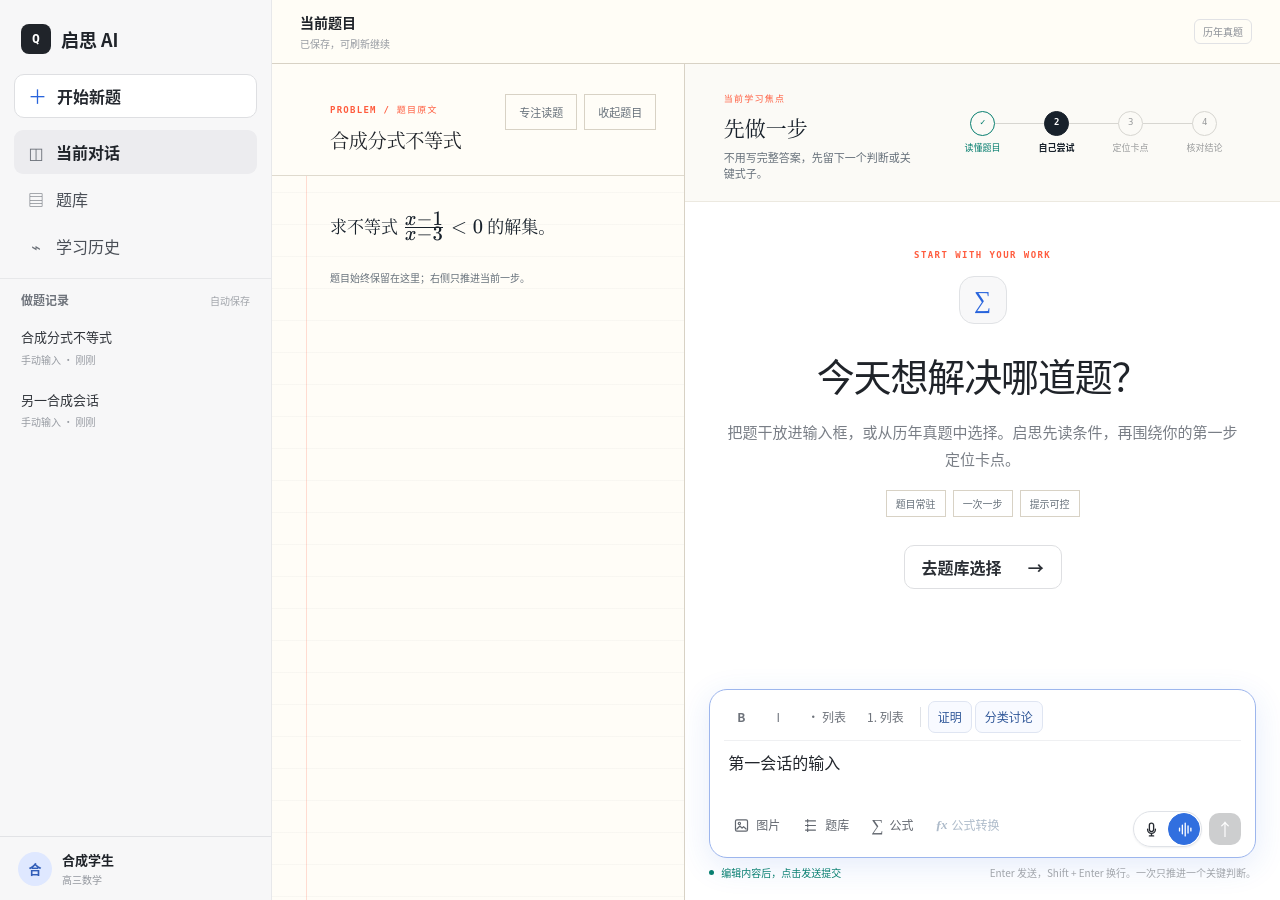
Test: BankPage committed chat versions (real React + SSE parser, fixture server) › does not apply an old session completion version to the session opened meanwhile
Expected: the heading "合成分式不等式" is shown, [330,127,462,153]
Clear the field named "输入题目或想法" at (784,762), box [728,750,840,774]
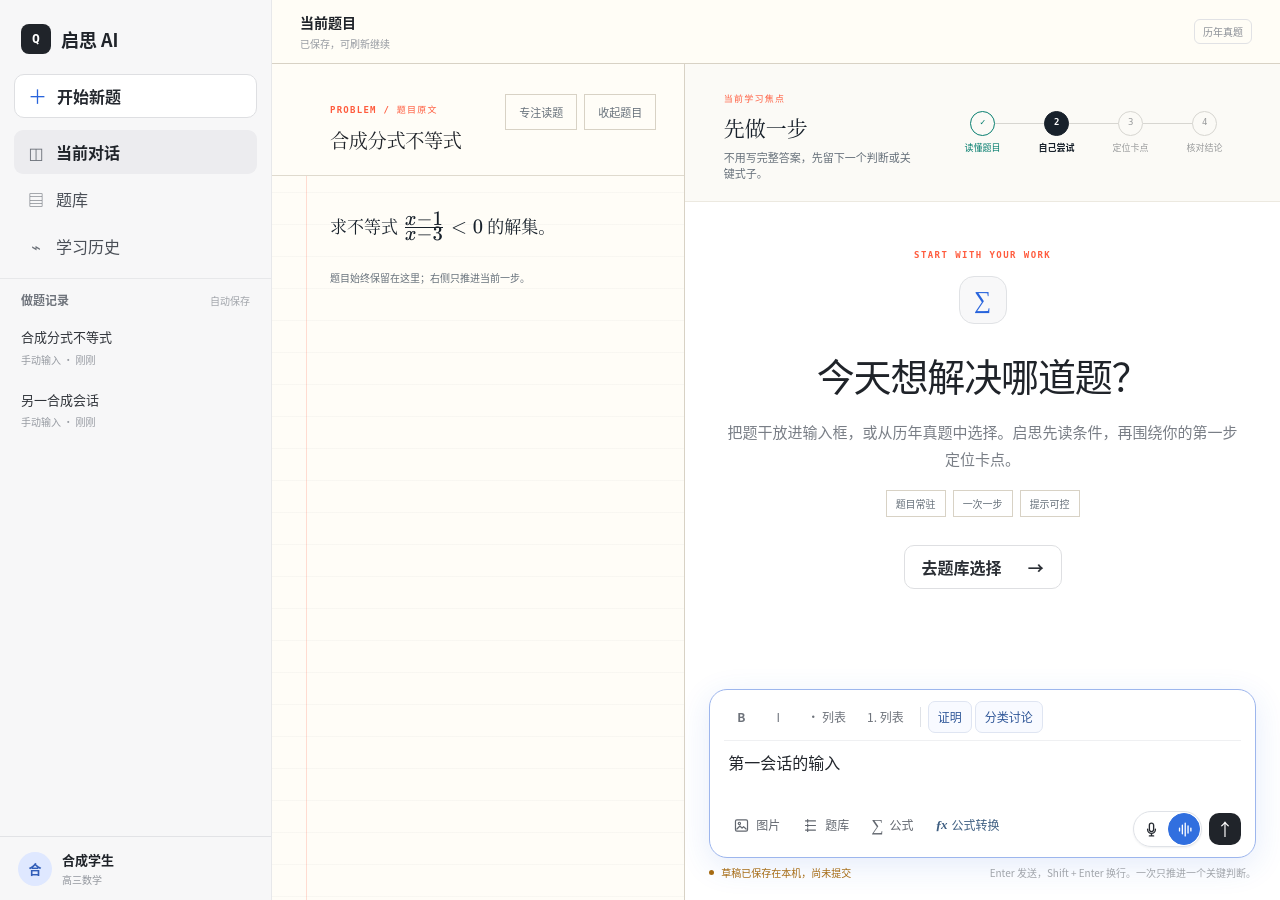
Click the button named "发送" at (1225,829), box [1209,813,1241,845]
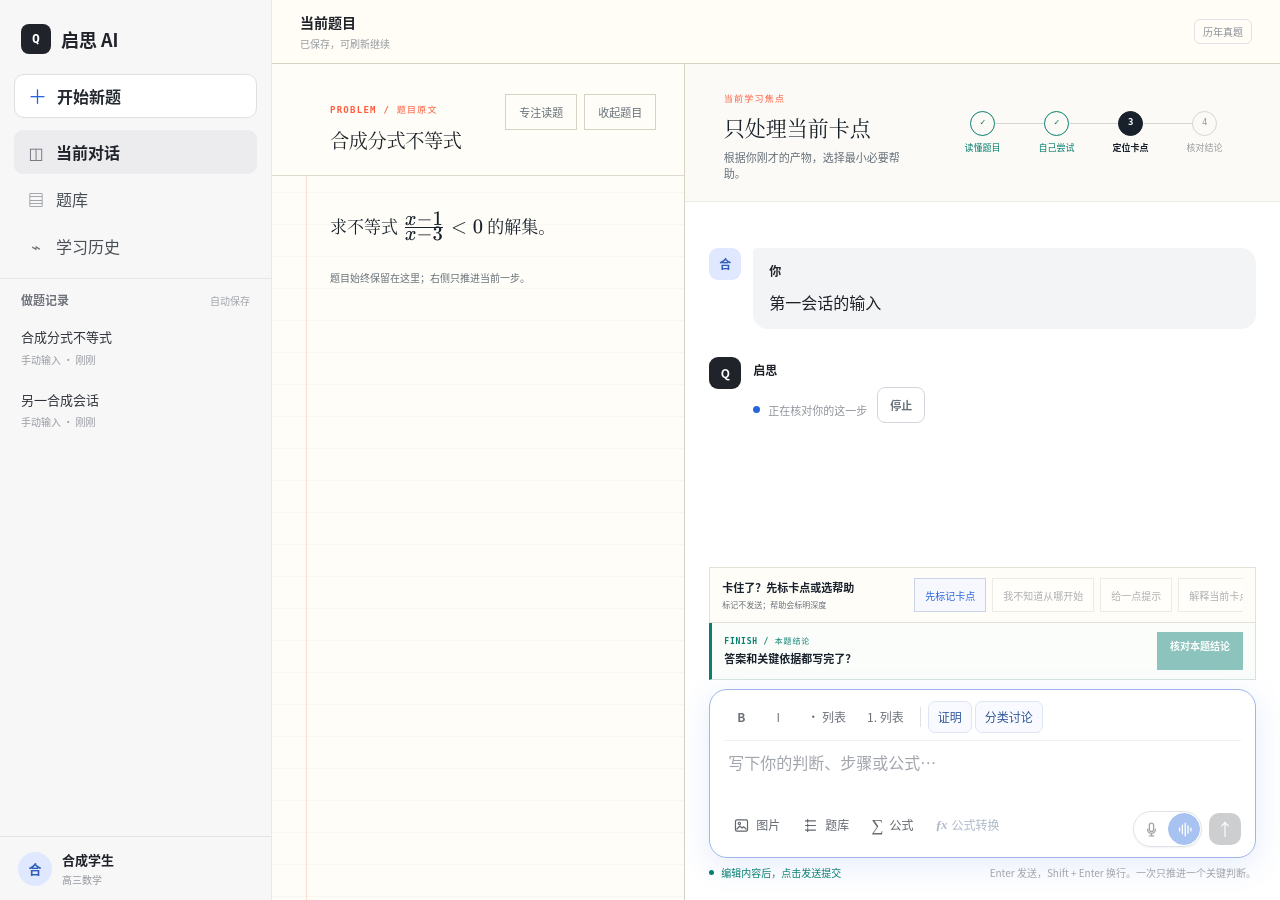
Click the button "另一合成会话 手动输入 · 刚刚" at (136,409), box [12,380,259,439]
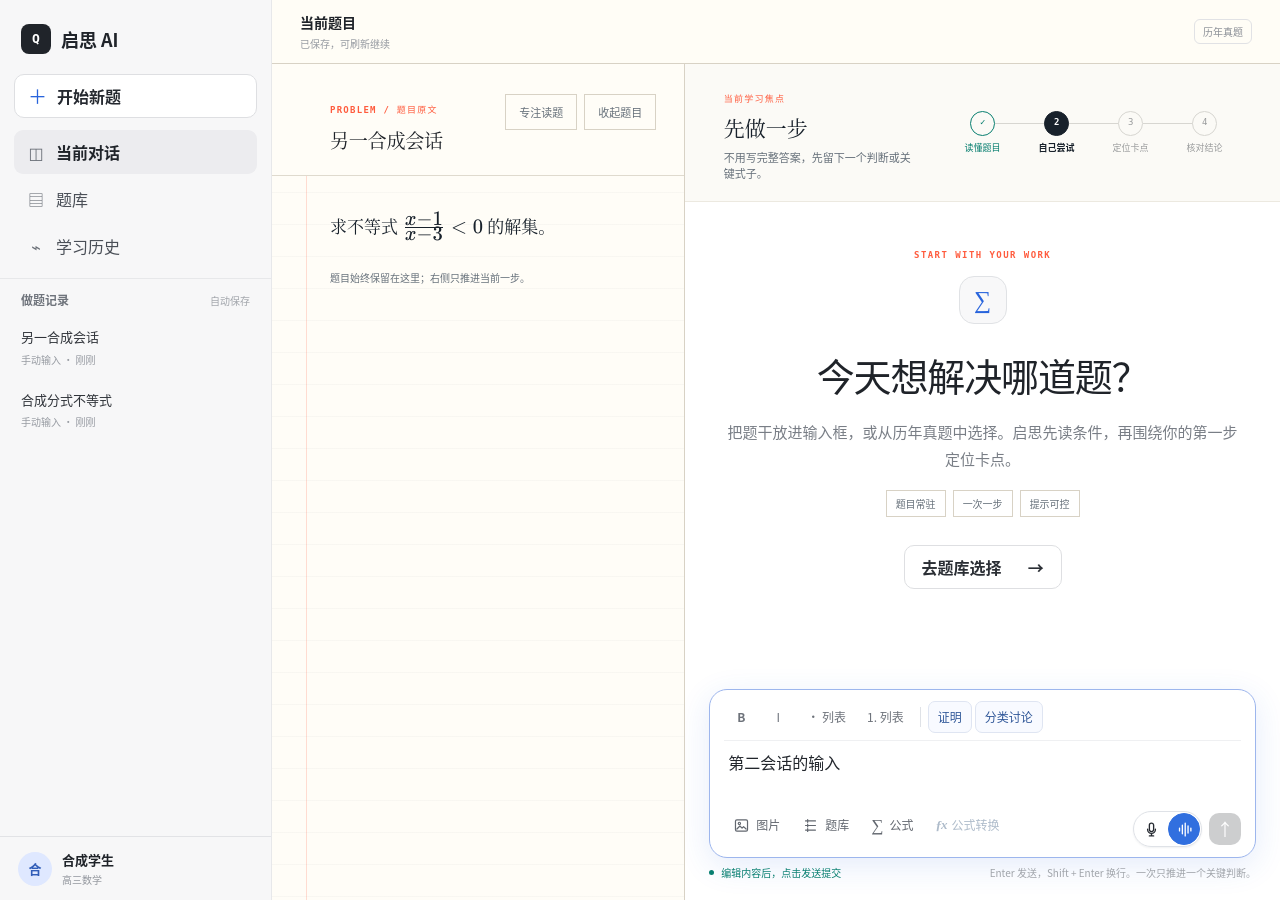
Result: the heading "另一合成会话" is shown at [330,127,443,153]
Clear the field named "输入题目或想法" at (784,762), box [728,750,840,774]
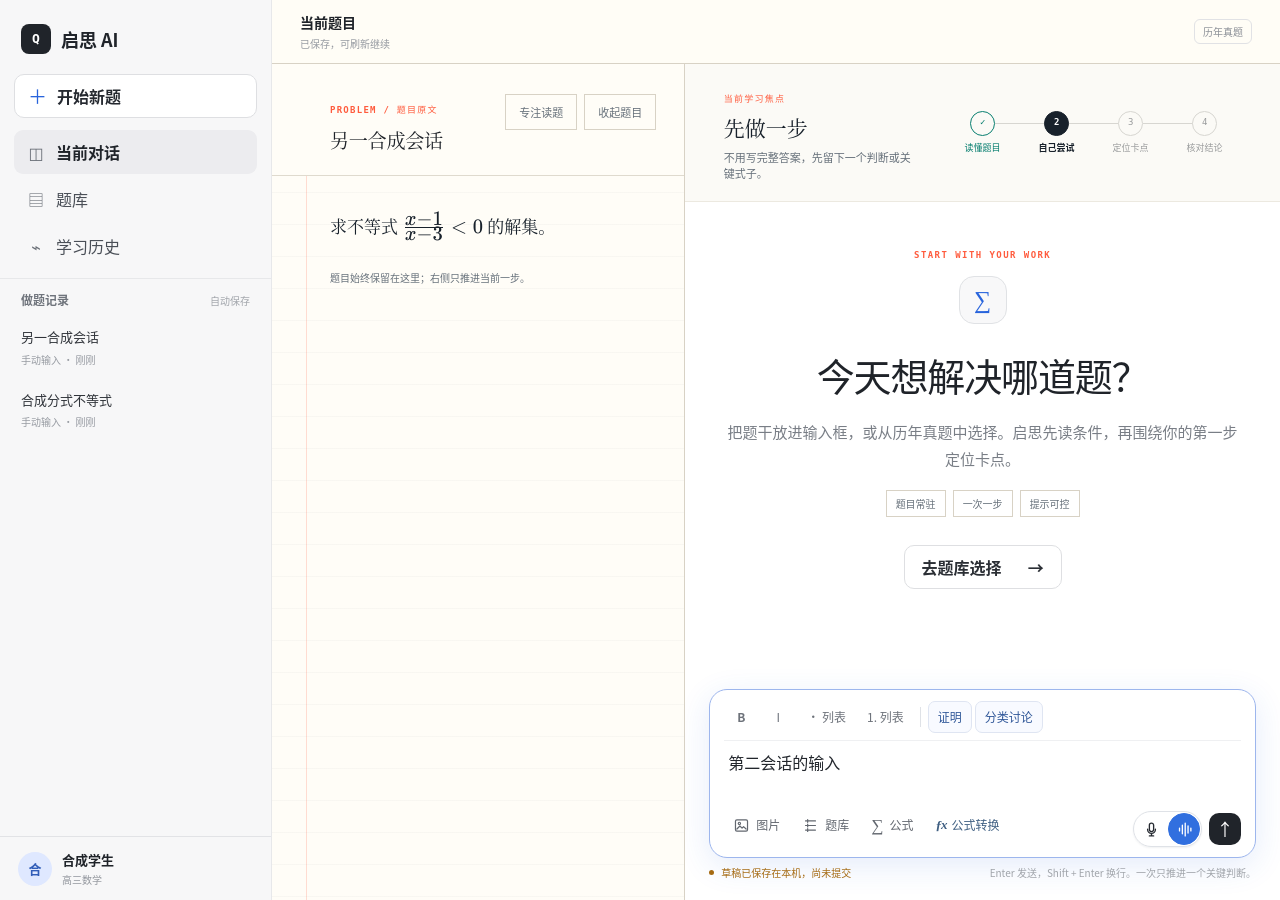
Click the button named "发送" at (1225,829), box [1209,813,1241,845]
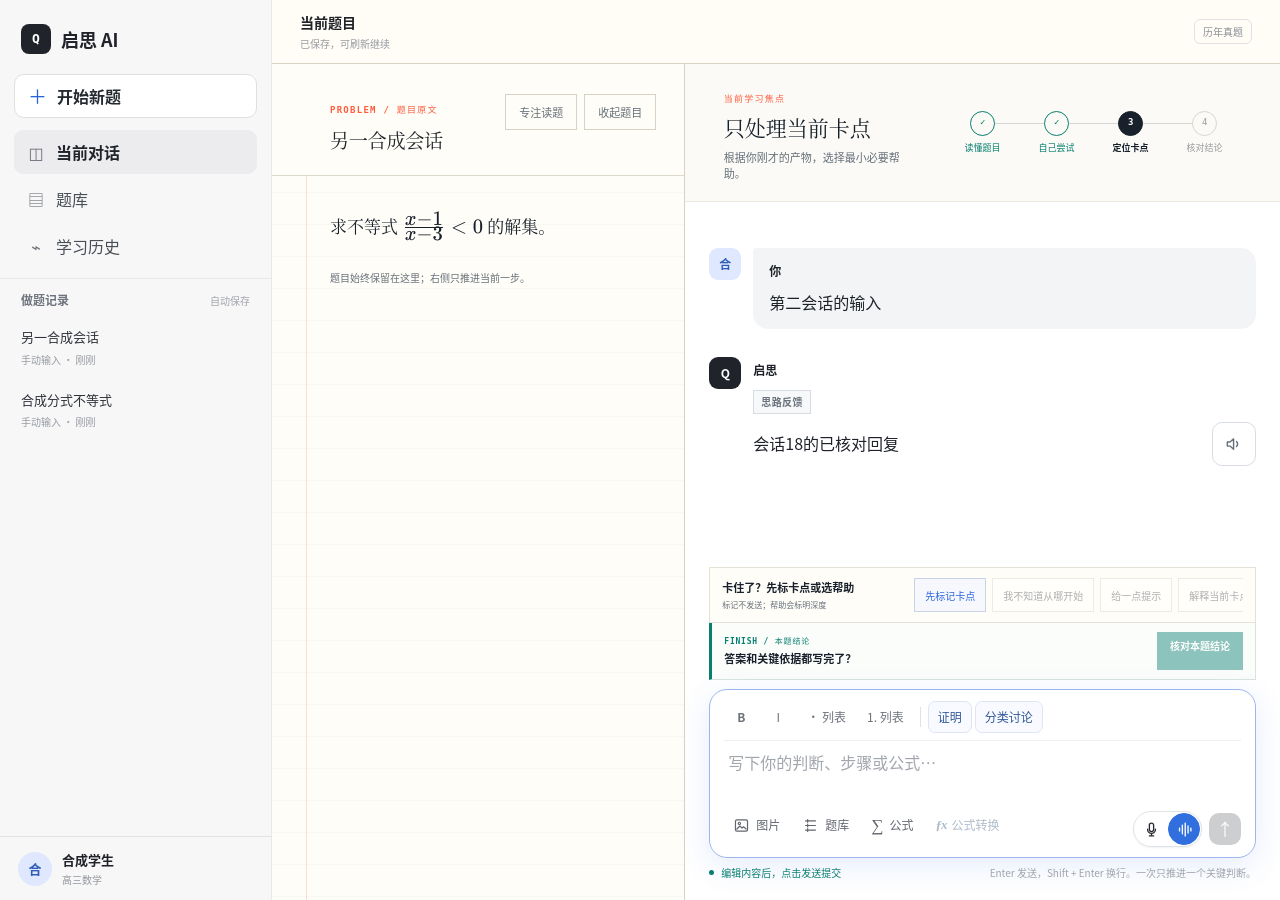
Result: the text "会话18的已核对回复" is shown at [753,431,899,455]
